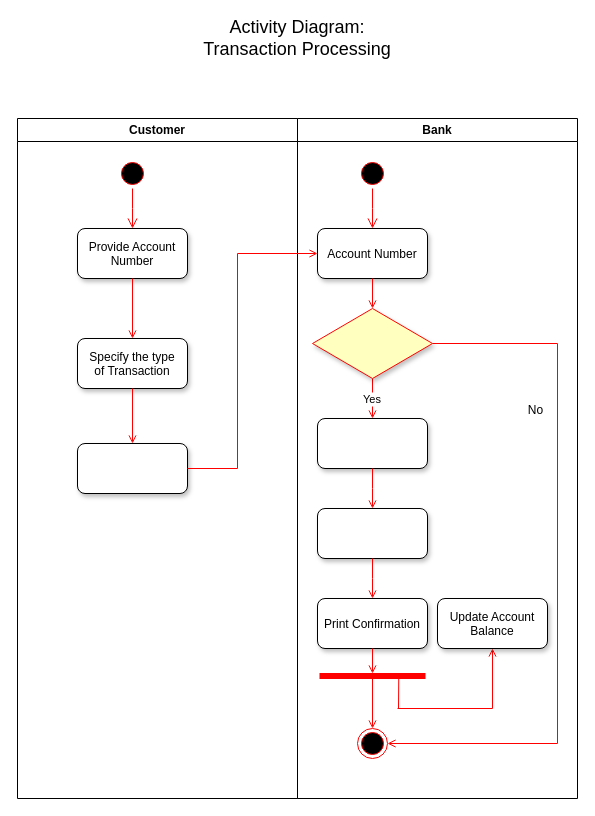
Some shapes in this 595 by 816 pixel diagram are drawn without their labels. Here are the shapes that lost their labels. From the top down, the centre of each, then its label:
point (373, 345): Valid?
point (373, 445): Enter Transaction Type
point (133, 469): Transaction Amount
point (373, 535): Enter Amount
